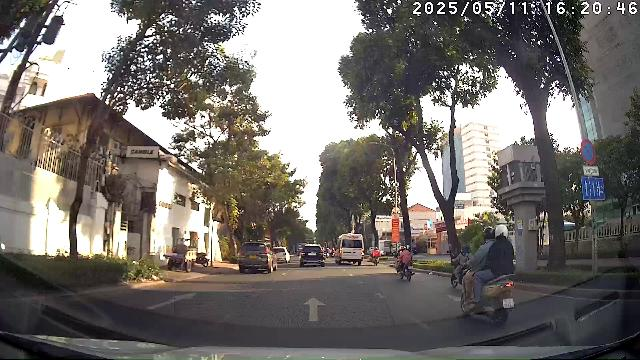131a-cam-do-xe: (580, 140, 596, 164)
